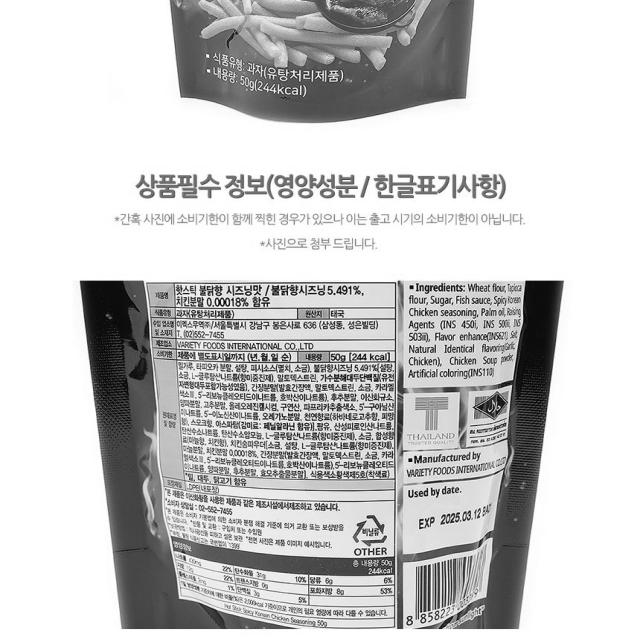Nutrition Label: (158, 525, 399, 640)
